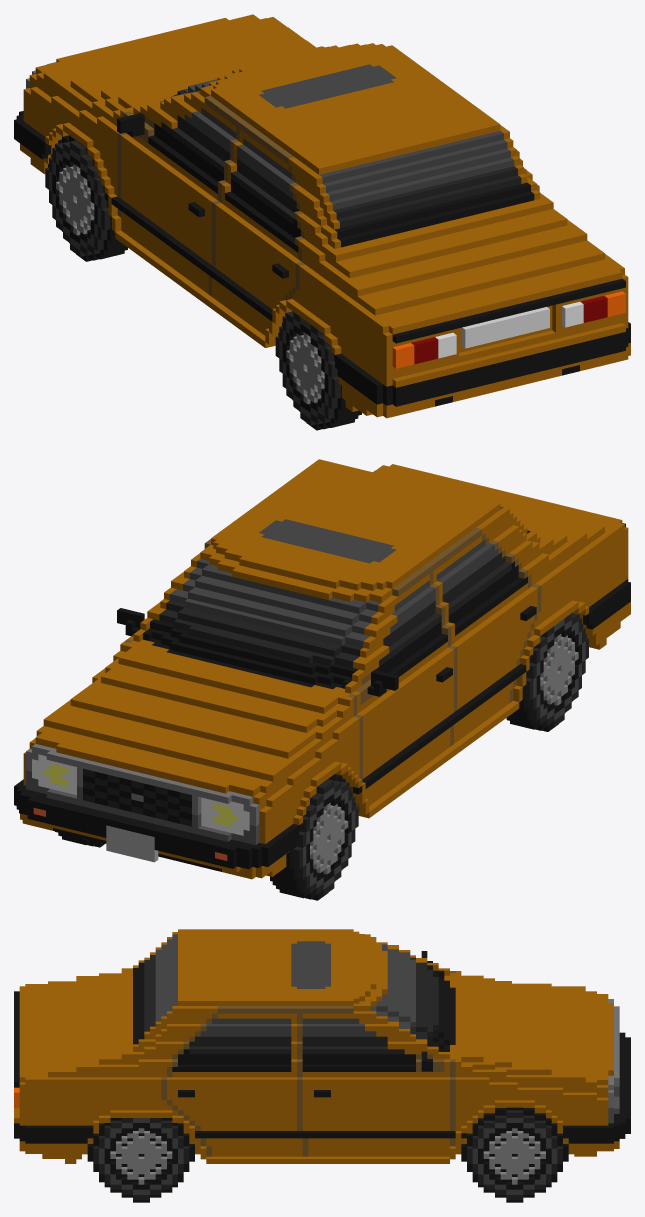
The picture shows the model from 3 angles, top to bottom: view 1: azimuth 30°, elevation 25°; view 2: azimuth 150°, elevation 25°; view 3: azimuth 270°, elevation 25°; orthographic projection. The views are drawn at different scales.
Parts seen in each view (by area): view 1: VOX; view 2: VOX; view 3: VOX.
Part boxes in pixels (x1,y1,x2,y2): VOX: [14, 14, 630, 430]; VOX: [14, 459, 630, 900]; VOX: [14, 929, 630, 1202].
Bounding box in the file's own units: 0.046 × 0.037 × 0.109.
